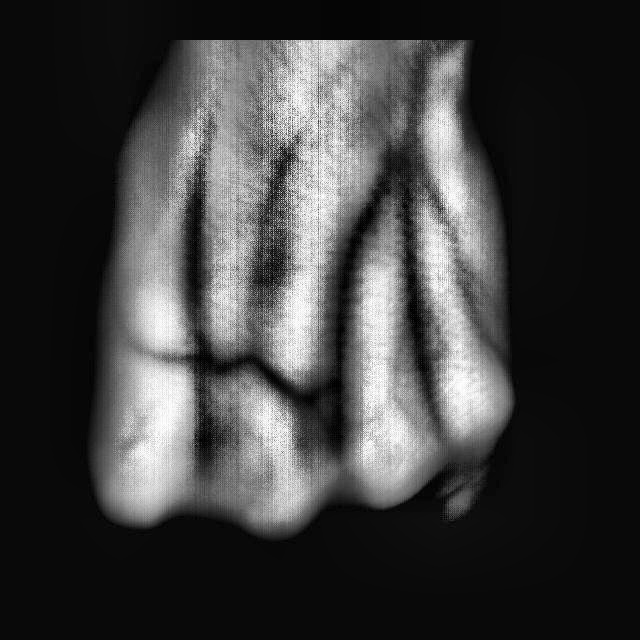Vein: (316, 110, 427, 311)
